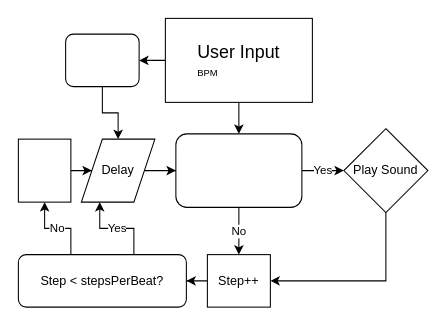
Image size: 446x326. Some labels were removed from this diagram. The box of each missing label's shape, as (x1, y1, x2, y2) in pixels:
Beat++: (17, 138, 71, 202)
BPM --> seconds per step: (65, 33, 139, 87)
For every instrument: on current beat: is current step true?: (175, 133, 302, 207)
